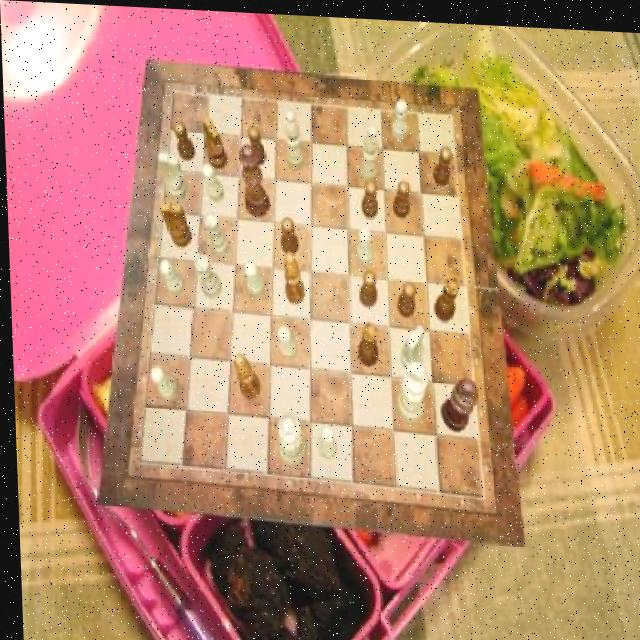bishop: (232, 350, 258, 397), (281, 249, 302, 303)
black-bishop: (436, 374, 475, 430)
black-king: (159, 198, 190, 245), (202, 114, 226, 168)
black-knight: (172, 119, 193, 160), (431, 142, 451, 183), (247, 124, 266, 165), (392, 176, 411, 215), (395, 277, 415, 314), (356, 265, 375, 303), (278, 214, 296, 253), (359, 176, 377, 214)
black-pawn: (236, 140, 267, 215)
black-queen: (430, 271, 458, 318), (355, 317, 376, 364)
black-rook: (356, 121, 379, 179), (284, 108, 305, 169)
white-bishop: (391, 357, 425, 421)
white-king: (156, 152, 185, 199), (397, 321, 422, 369)
white-knight: (148, 364, 176, 400), (157, 259, 182, 296), (200, 160, 223, 199), (241, 259, 262, 294), (391, 96, 408, 138), (354, 223, 372, 262), (314, 423, 334, 458), (275, 321, 295, 356)
white-pawn: (273, 409, 302, 465)
white-queen: (191, 251, 219, 297), (201, 208, 227, 255)
